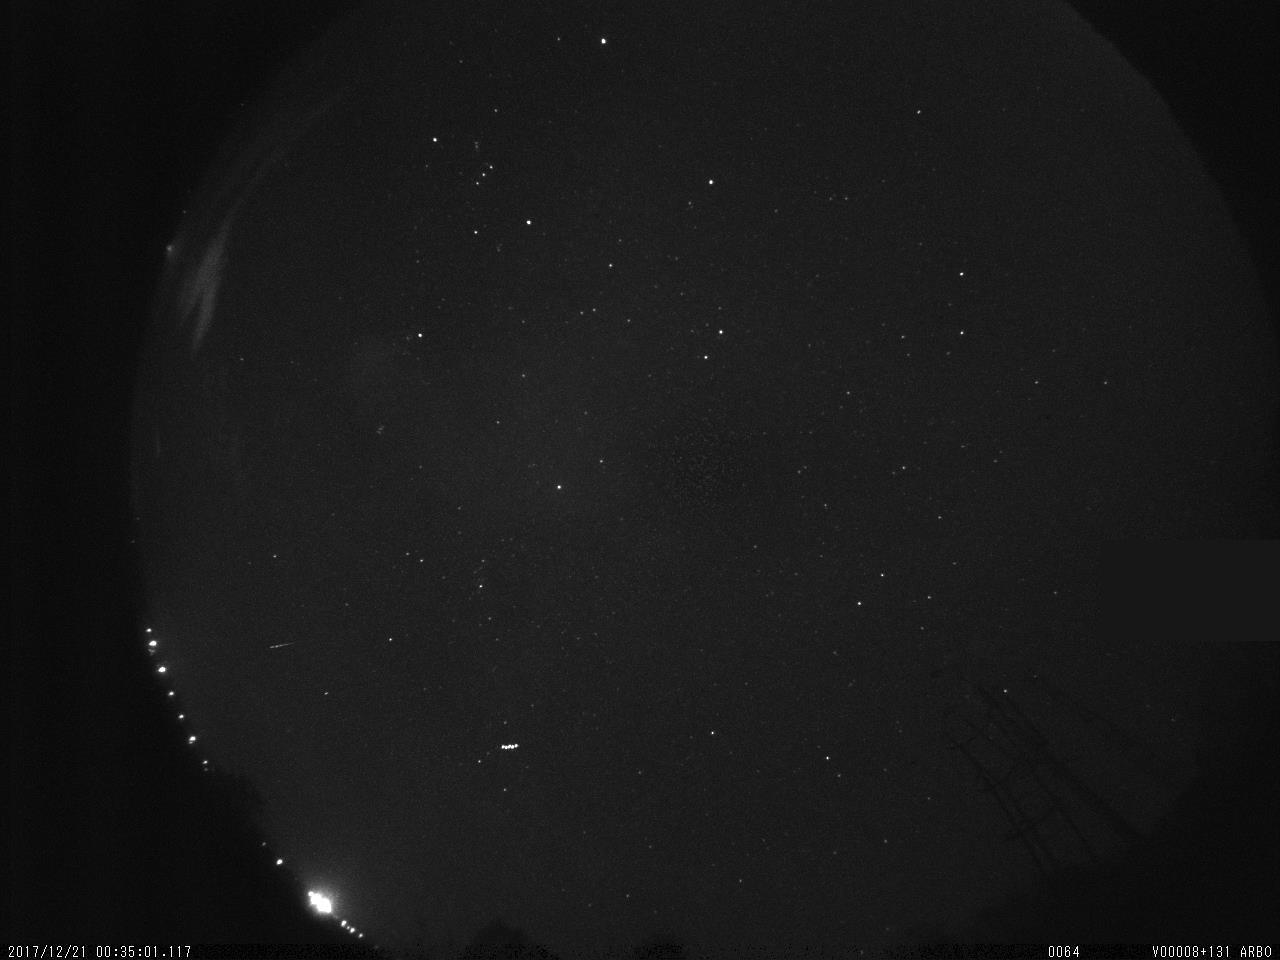meteor: (261, 637, 302, 657)
